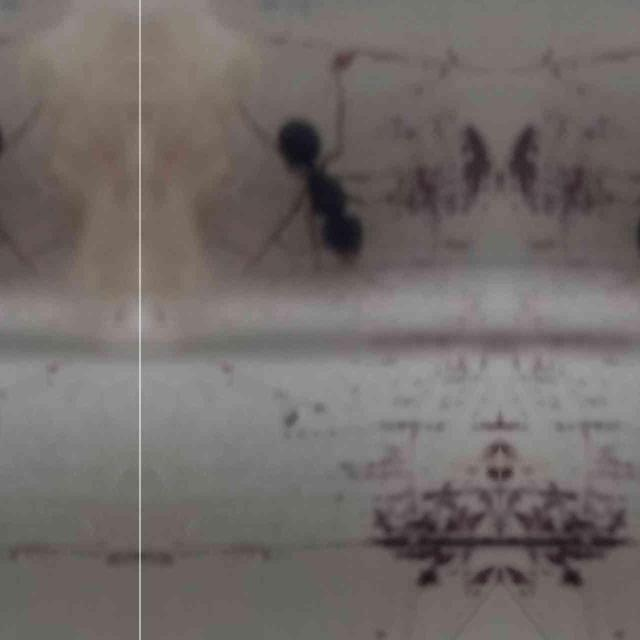Lasius: (254, 94, 386, 282)
